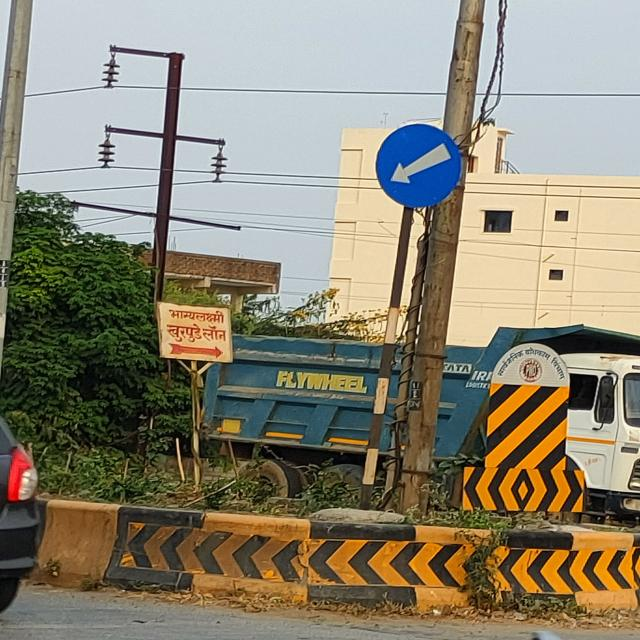compulsory_cycle_track: (369, 118, 472, 213)
